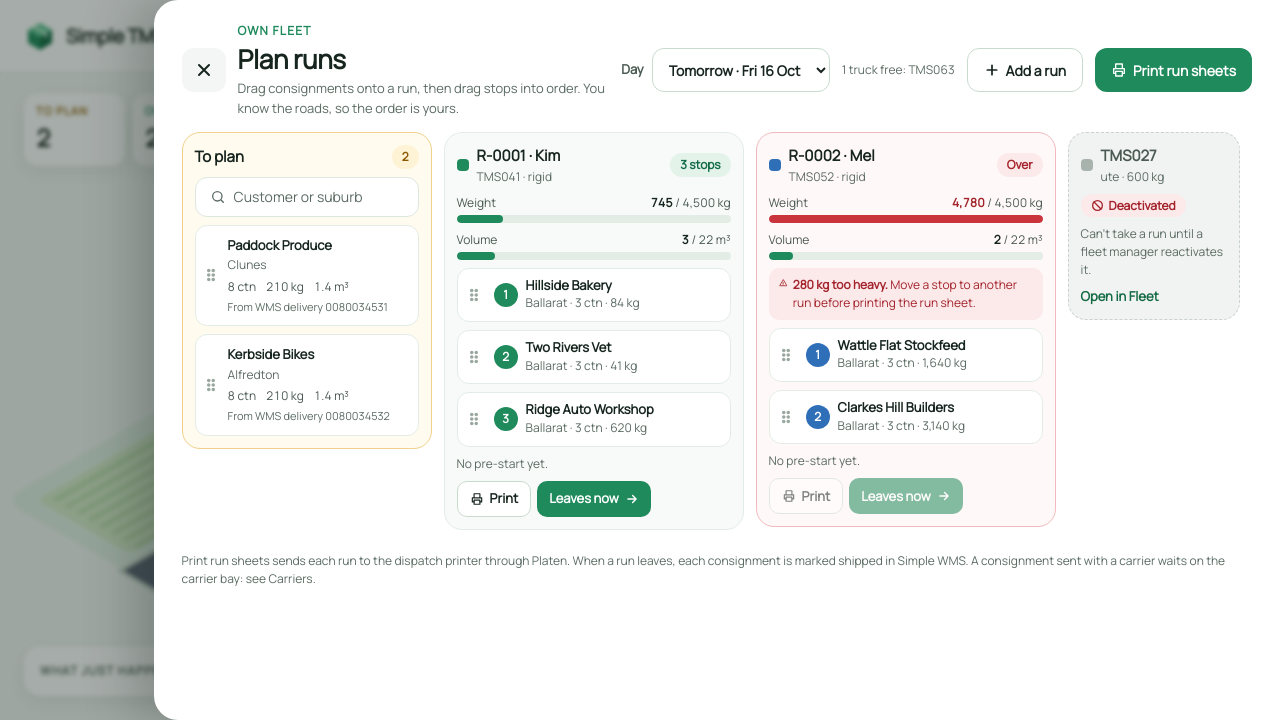
Test: Plan runs › prints every run sheet it can and says what it could not
Click the button "Print run sheets" at [1174, 70], box [1095,48,1252,92]
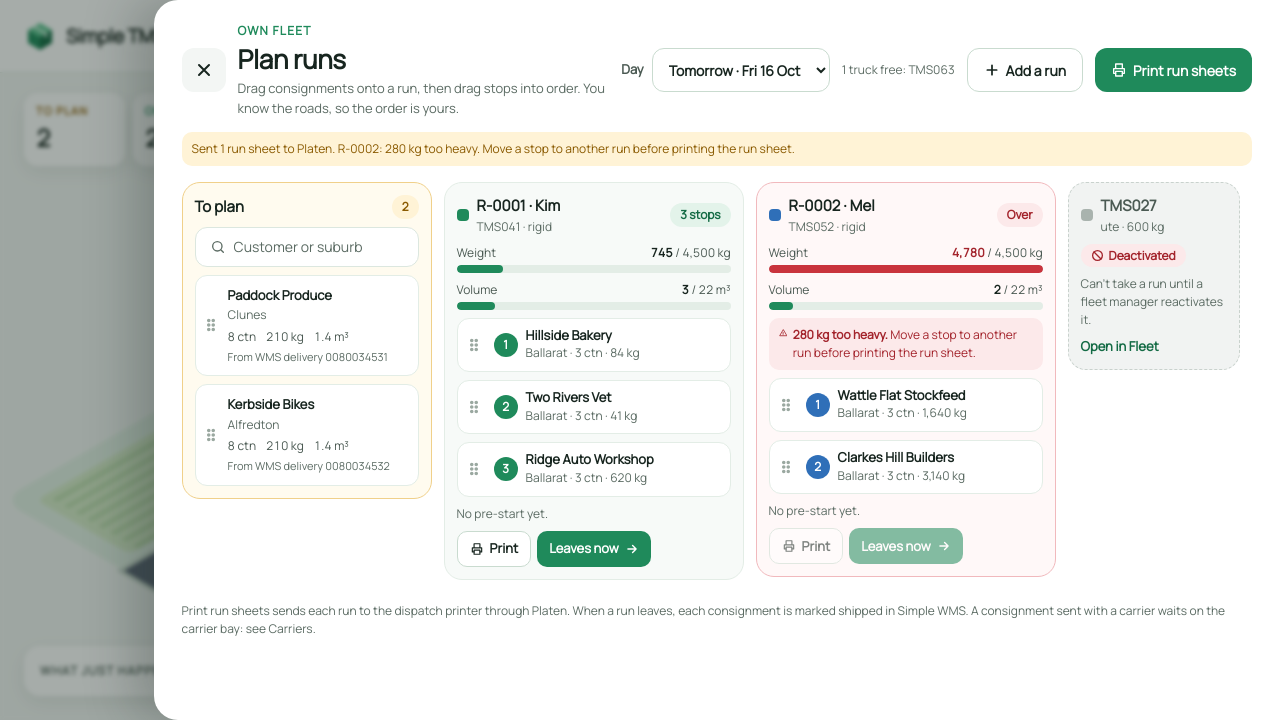
expect the text "Sent 1 run sheet to Platen. R-0002: 280 kg too heavy" is shown: met, box [192,140,795,157]
